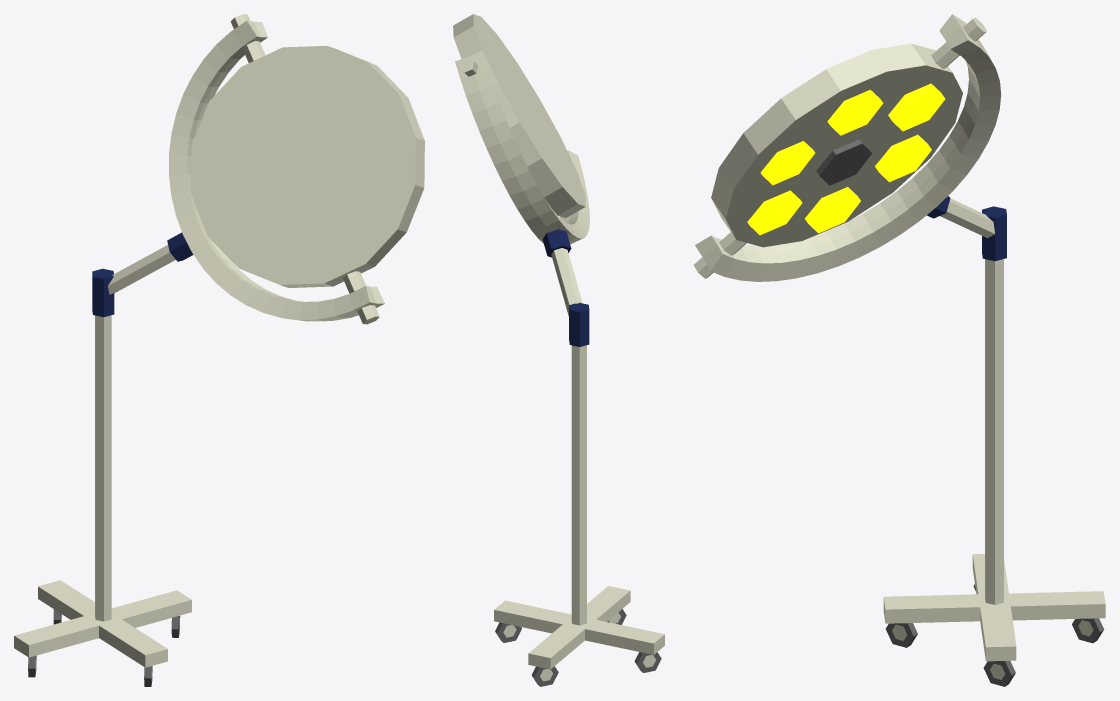
File: light-left-hospital.fbx
3 renders of one model, left to right at view 1: azimuth 30°, elevation 25°; view 2: azimuth 150°, elevation 25°; view 3: azimuth 270°, elevation 25°, orthographic. The views are drawn at different scales.
Visible parts, largest first — view 1: light-left-hospital; view 2: light-left-hospital; view 3: light-left-hospital.
Part boxes in pixels (left/top/right/bottom): light-left-hospital: left=14, top=14, right=424, bottom=686; light-left-hospital: left=453, top=14, right=664, bottom=686; light-left-hospital: left=693, top=14, right=1105, bottom=686.
Size of the model in its own units: 221 by 431 by 231.
